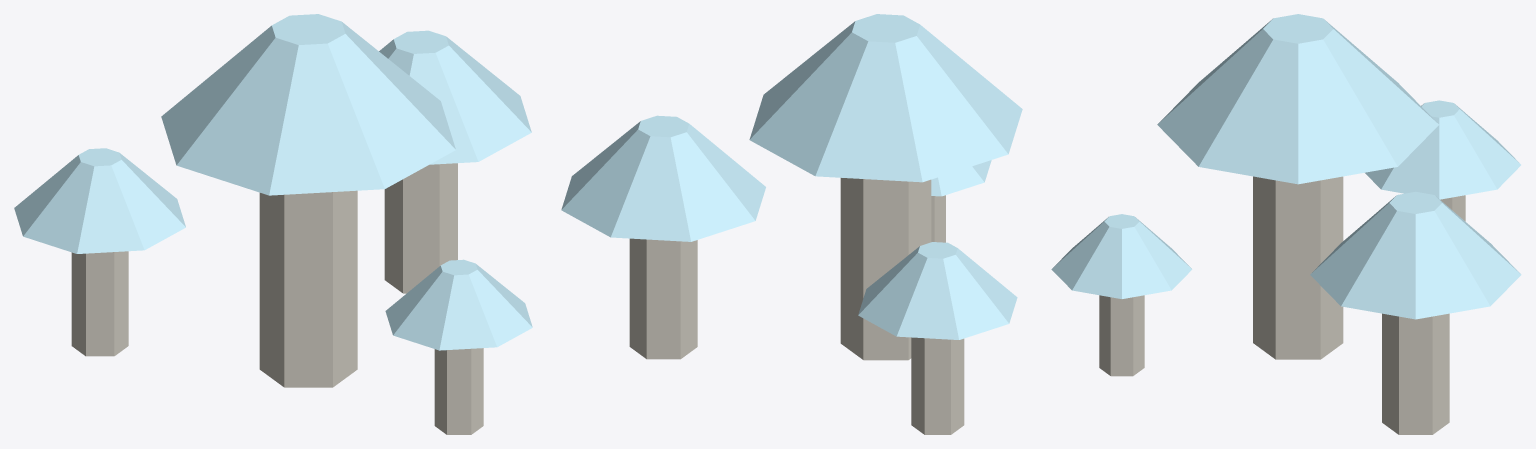
The model's file is Glowcap.fbx.
3 renders of one model, left to right at view 1: azimuth 30°, elevation 25°; view 2: azimuth 150°, elevation 25°; view 3: azimuth 270°, elevation 25°, orthographic. The views are drawn at different scales.
Visible parts, largest first — view 1: Glowcap_Mesh; view 2: Glowcap_Mesh; view 3: Glowcap_Mesh.
Boxes of the visible parts, x1=… form: Glowcap_Mesh: x1=14, y1=14, x2=532, y2=434; Glowcap_Mesh: x1=561, y1=14, x2=1022, y2=434; Glowcap_Mesh: x1=1051, y1=14, x2=1521, y2=434.
Size of the model in its own units: 0.44 by 0.295 by 0.4.
